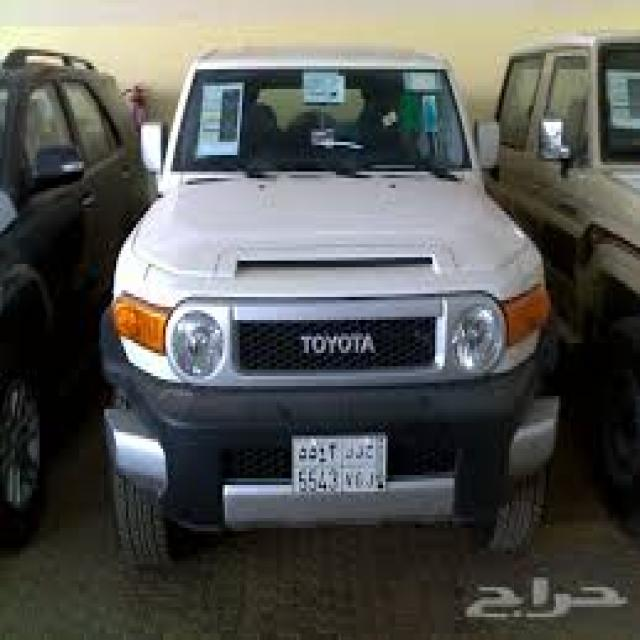license_plate: (289, 432, 391, 505)
